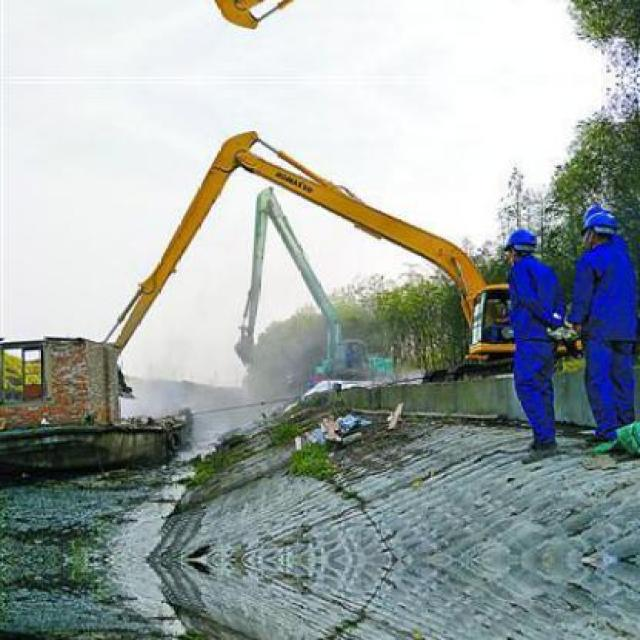helmet: (576, 203, 618, 246), (504, 225, 538, 264)
